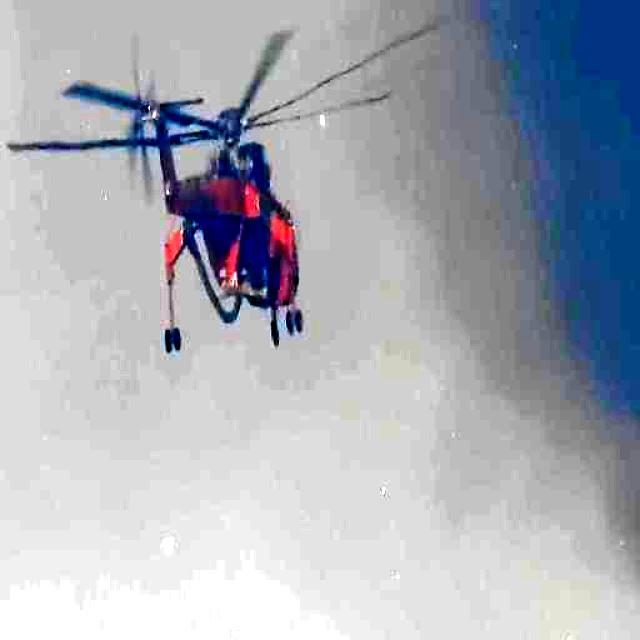drone: (18, 10, 372, 372)
